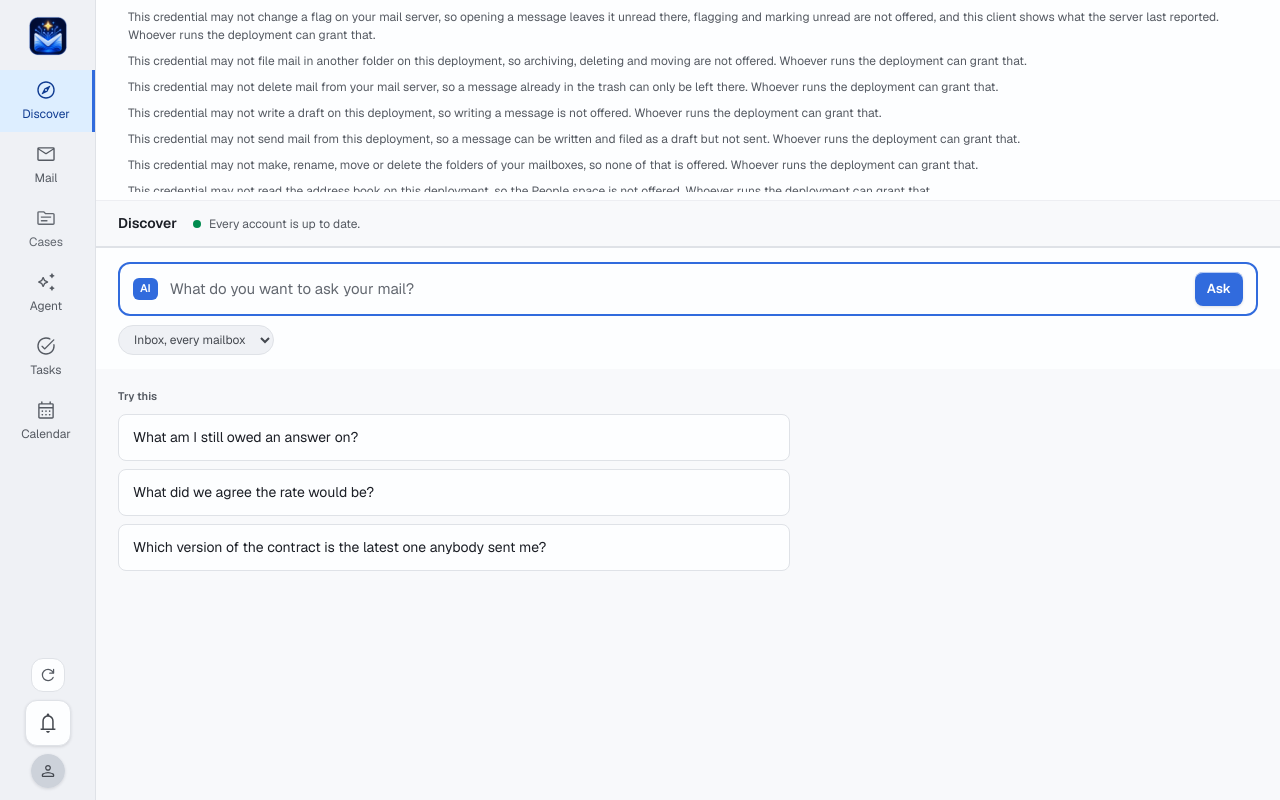
App › keeps the question and the mailbox in scope while the person moves between spaces
The width and height of the screenshot is (1280, 800).
Check: the heading "Every account is up to date." is shown, box x1=193 y1=214 x2=360 y2=232
Type "the renewal Nordwind sent" into the search field labelled "ask your mail". click: (676, 289)
box: x1=170 y1=277 x2=1183 y2=300
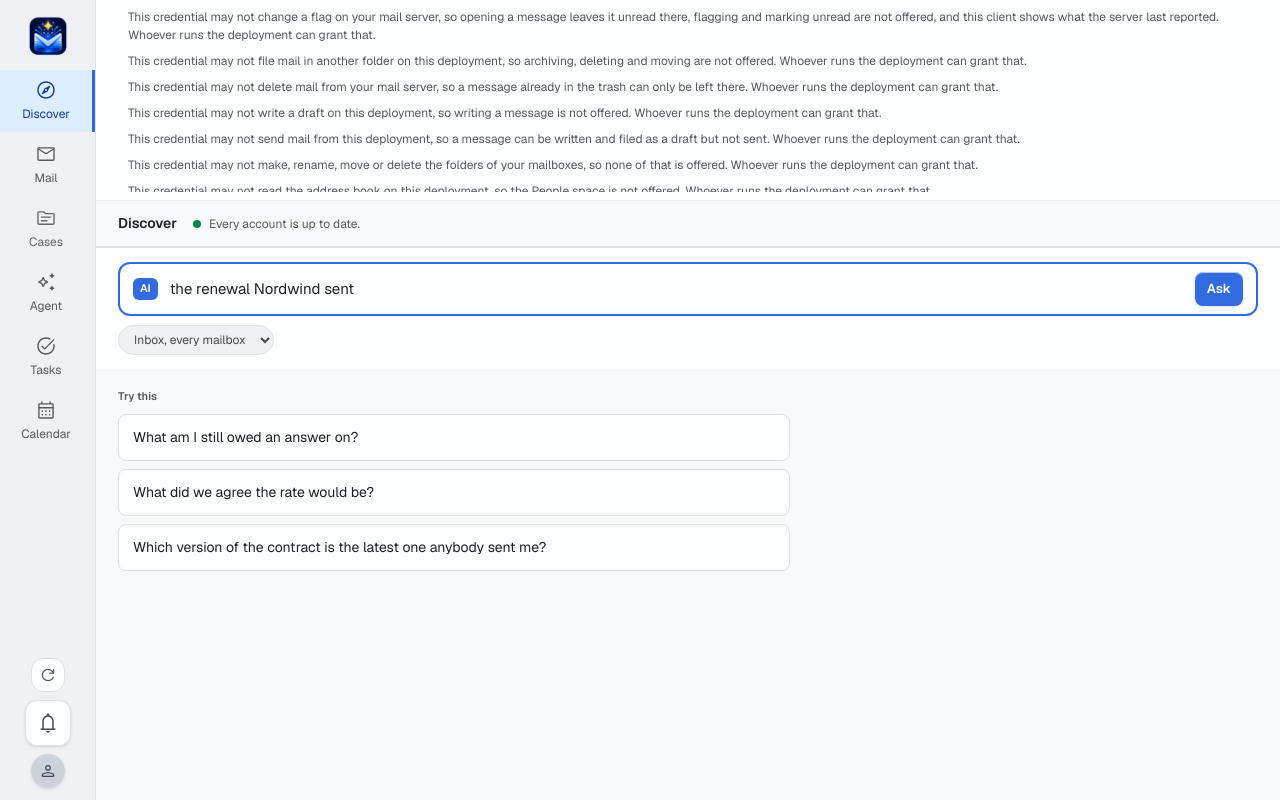
Select "Work" in the dropdown named "What the question is asked about". click: (196, 340)
box: x1=118 y1=324 x2=274 y2=354
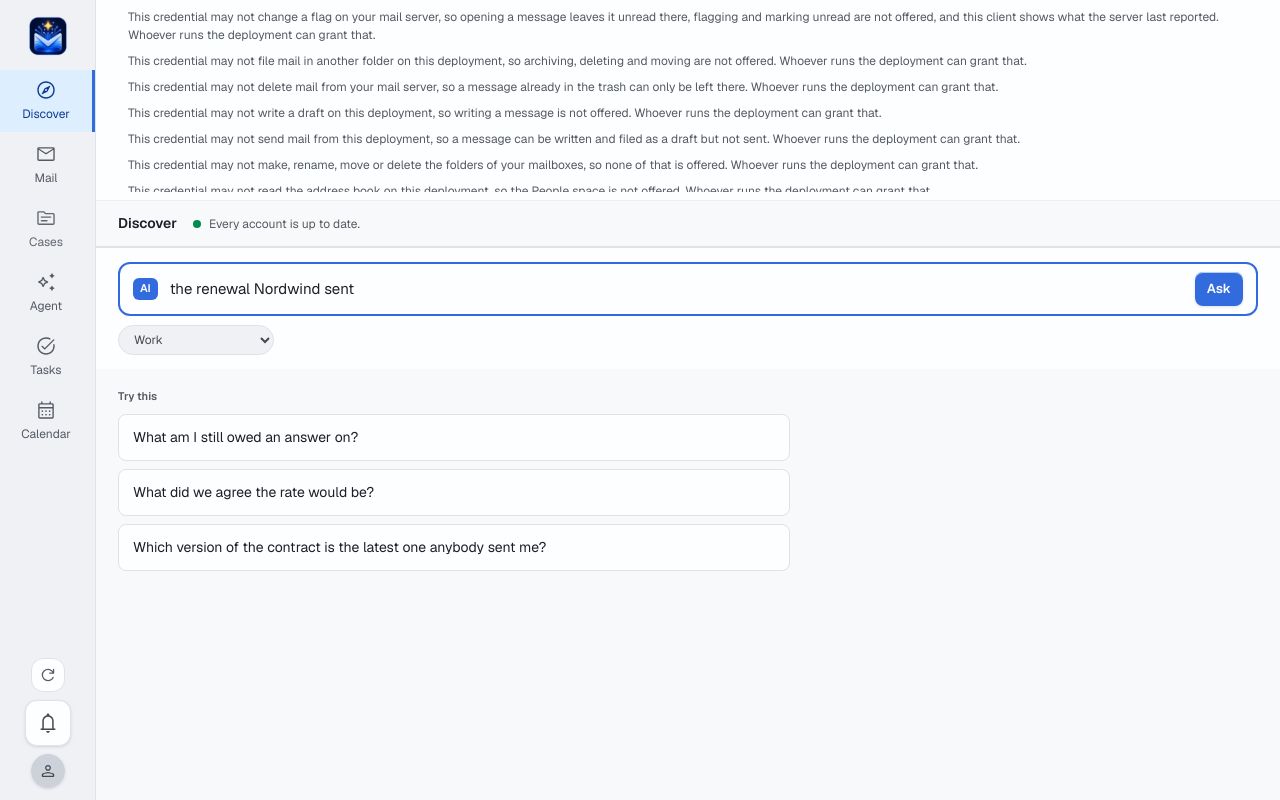
Click the link "Mail". click: click(46, 164)
box: x1=34 y1=143 x2=57 y2=186
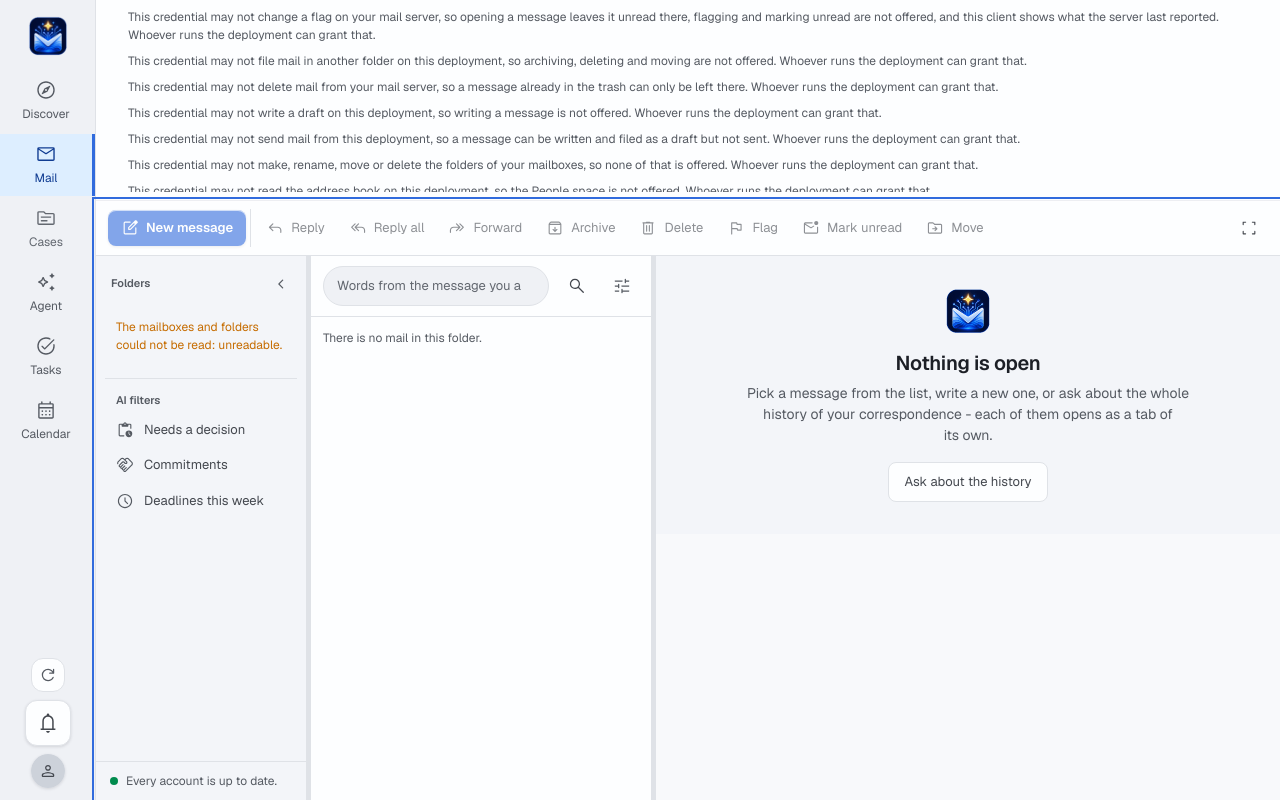
Check: the search field labelled "Ask your mail" is not shown
Check: the element named "Mail" is shown
Click the link "Discover". click: click(46, 100)
box: x1=22 y1=79 x2=70 y2=122
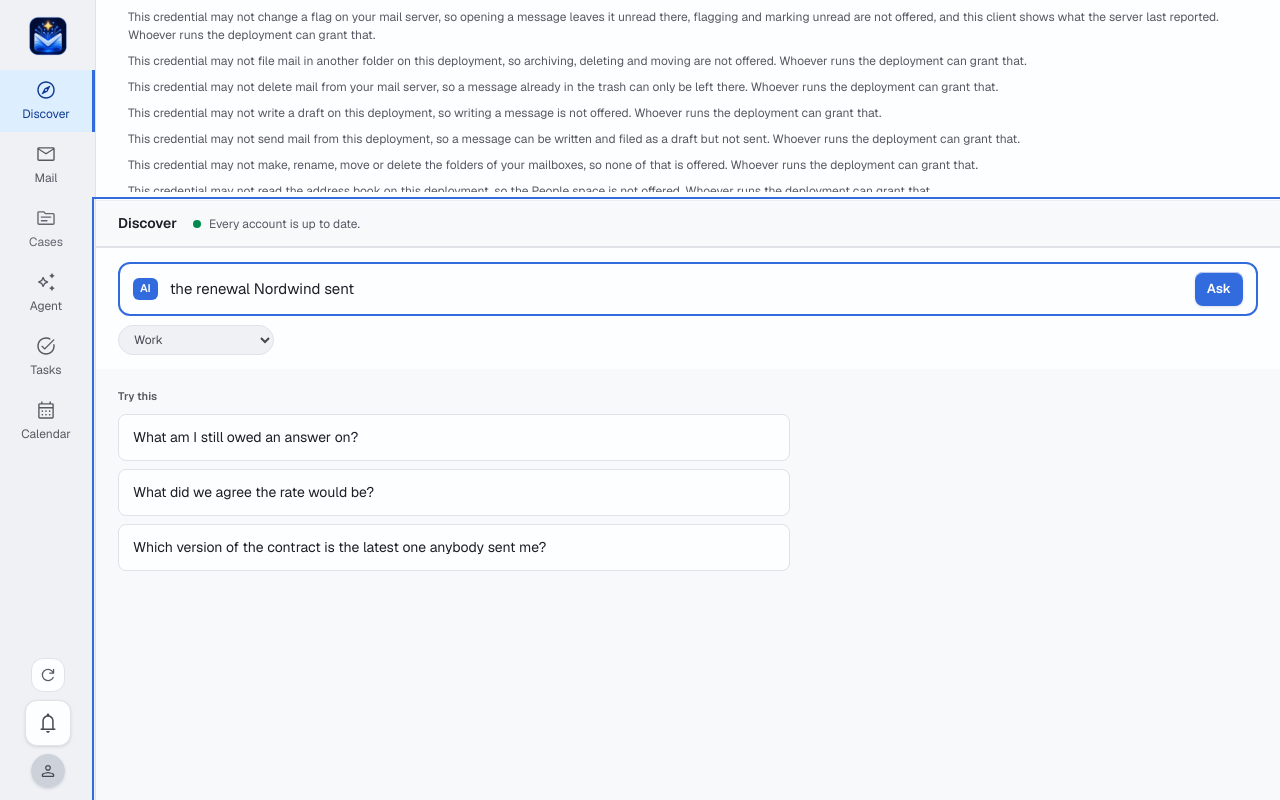
Check: the element "Discover" is shown
Check: the search field named "ask your mail" holds "the renewal Nordwind sent", box x1=170 y1=277 x2=1183 y2=300
Check: the dropdown named "What the question is asked about" shows "Work", box x1=118 y1=324 x2=274 y2=354
